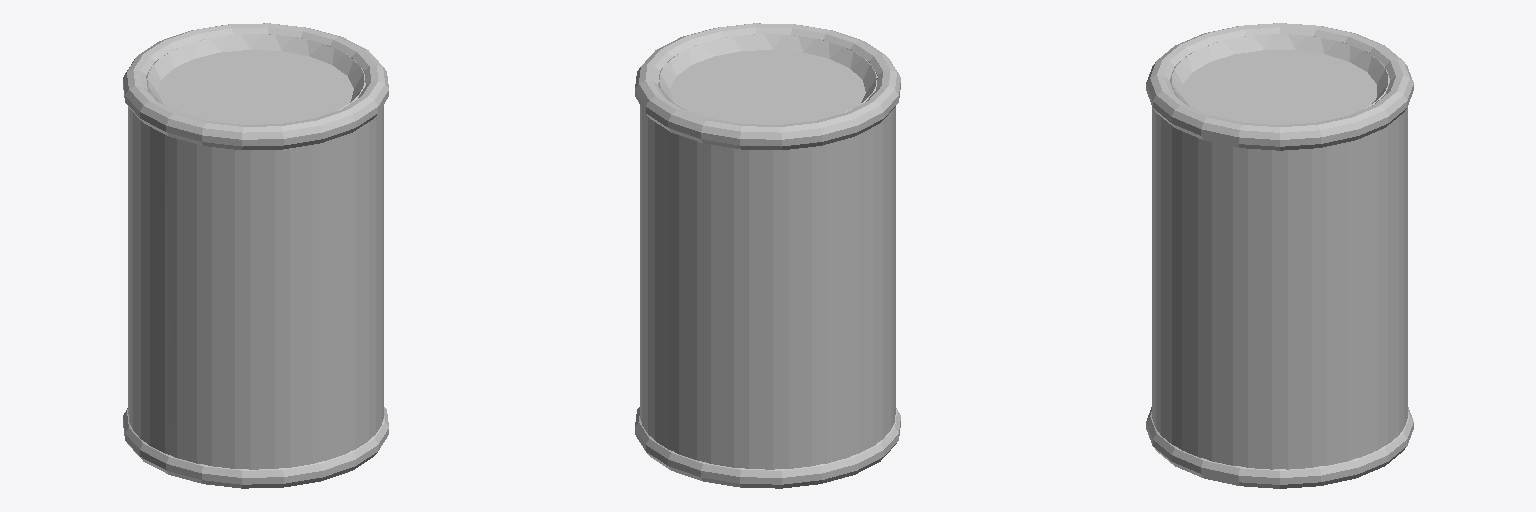
Rendered from potion.obj.
3 renders of one model, left to right at view 1: azimuth 30°, elevation 25°; view 2: azimuth 150°, elevation 25°; view 3: azimuth 270°, elevation 25°, orthographic.
Parts seen in each view (by area): view 1: pTorus3; view 2: pTorus3; view 3: pTorus3.
Part boxes in pixels (bbox=[...]): pTorus3: bbox=[123, 23, 388, 488]; pTorus3: bbox=[635, 23, 900, 488]; pTorus3: bbox=[1146, 23, 1413, 488].
Bounding box in the file's own units: 1.37 × 2.04 × 1.37.